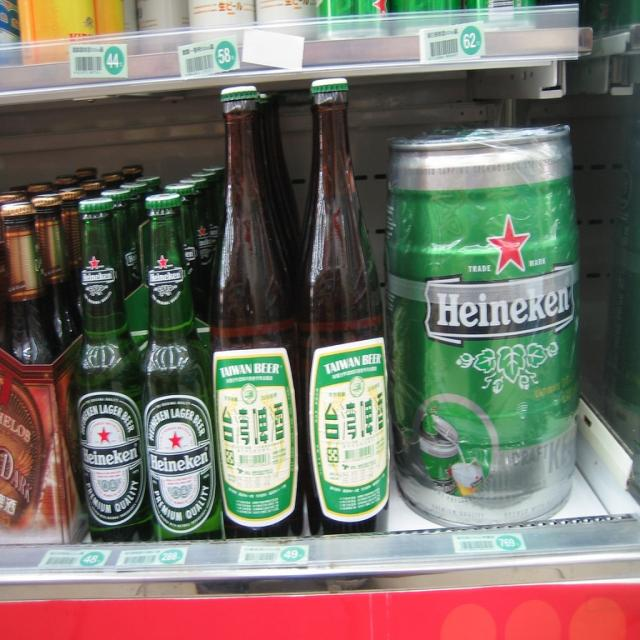heineken: (417, 209, 581, 397), (144, 395, 218, 535), (78, 391, 147, 526), (148, 255, 185, 299), (82, 256, 117, 298)
